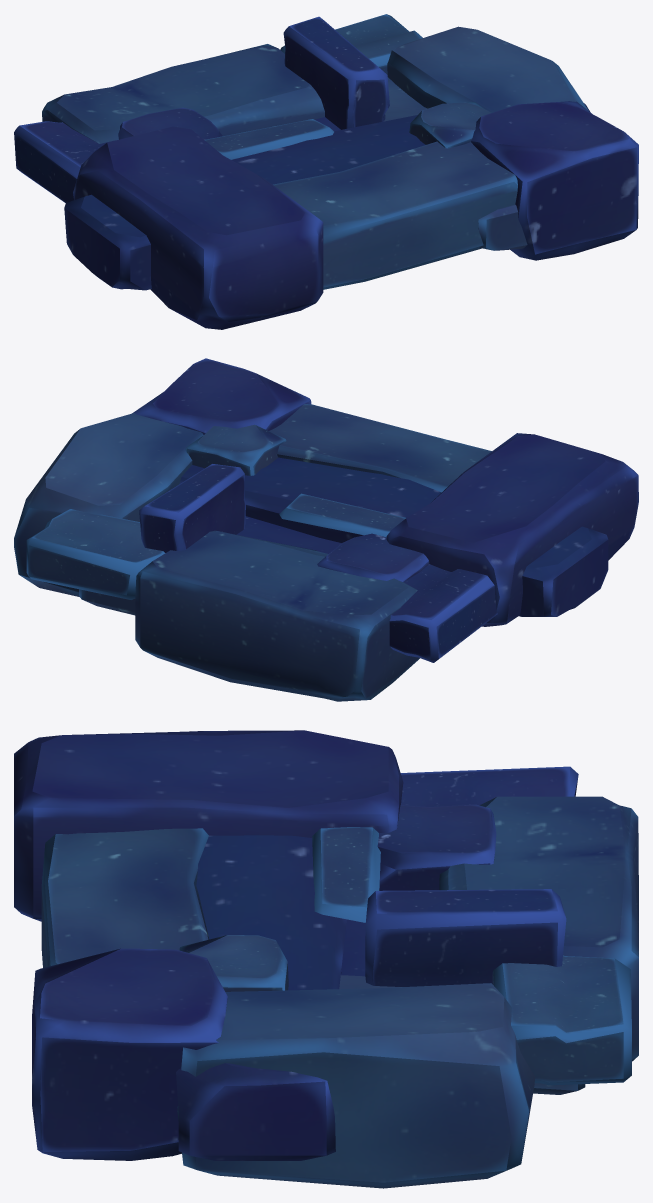
File: msh_stone Foothold2.fbx
3 views of the same model, one above another, from view 1: azimuth 30°, elevation 25°; view 2: azimuth 150°, elevation 25°; view 3: azimuth 270°, elevation 25° (orthographic). The views are drawn at different scales.
Parts seen in each view (by area): view 1: Box069; view 2: Box069; view 3: Box069.
Boxes of the visible parts, x1,y1,x2,y2 form: Box069: (14,14,638,329); Box069: (14,358,638,701); Box069: (14,730,638,1188).
Size of the model in its own units: 399 by 105 by 315.
